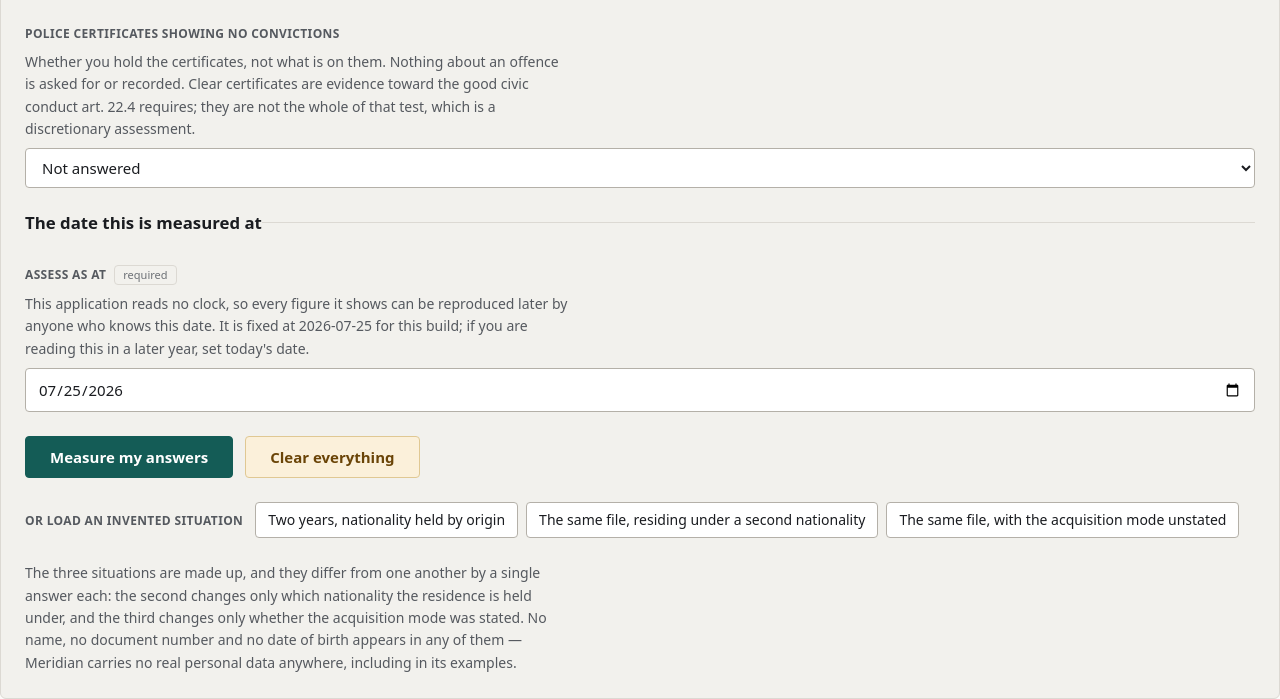
Test: the three cases, on screen › explains that refusal by the nationality the residence is held under, and marks it as practice
(page scrolled)
Click the button "The same file, residing under a second nationality": click(702, 520) [526,502,878,538]
(page scrolled)
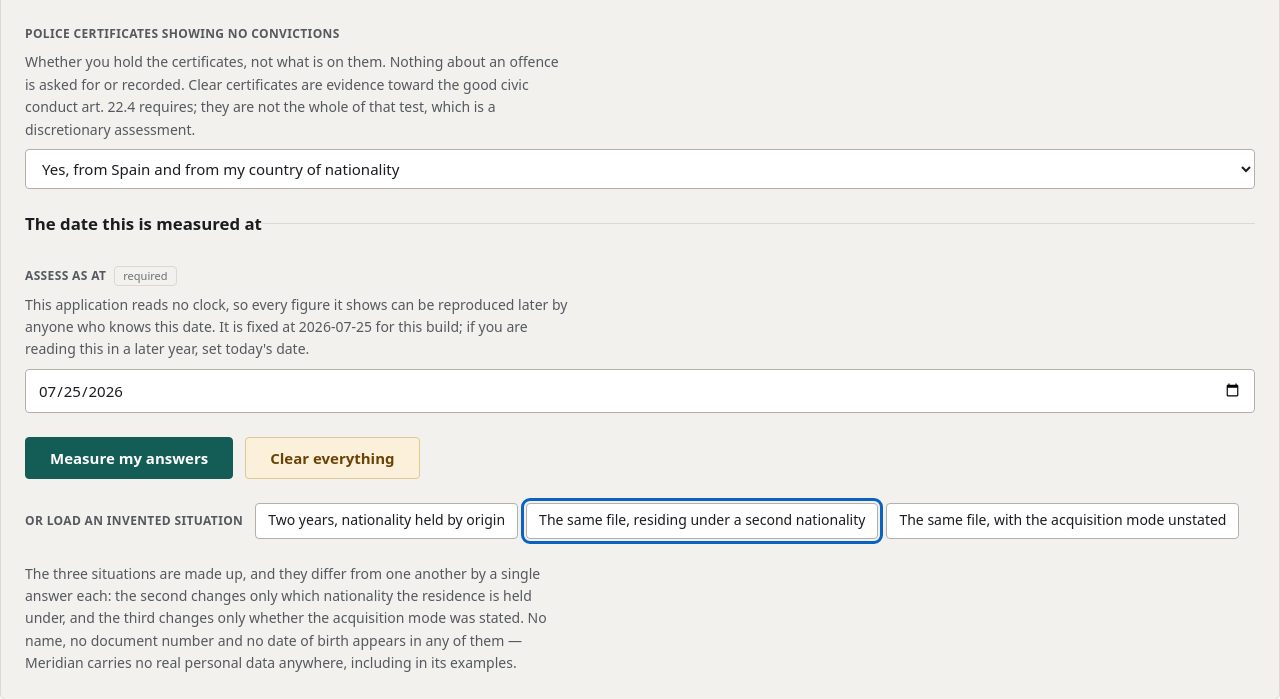
Click the button "Measure my answers": click(129, 458) [25,437,233,479]
(page scrolled)
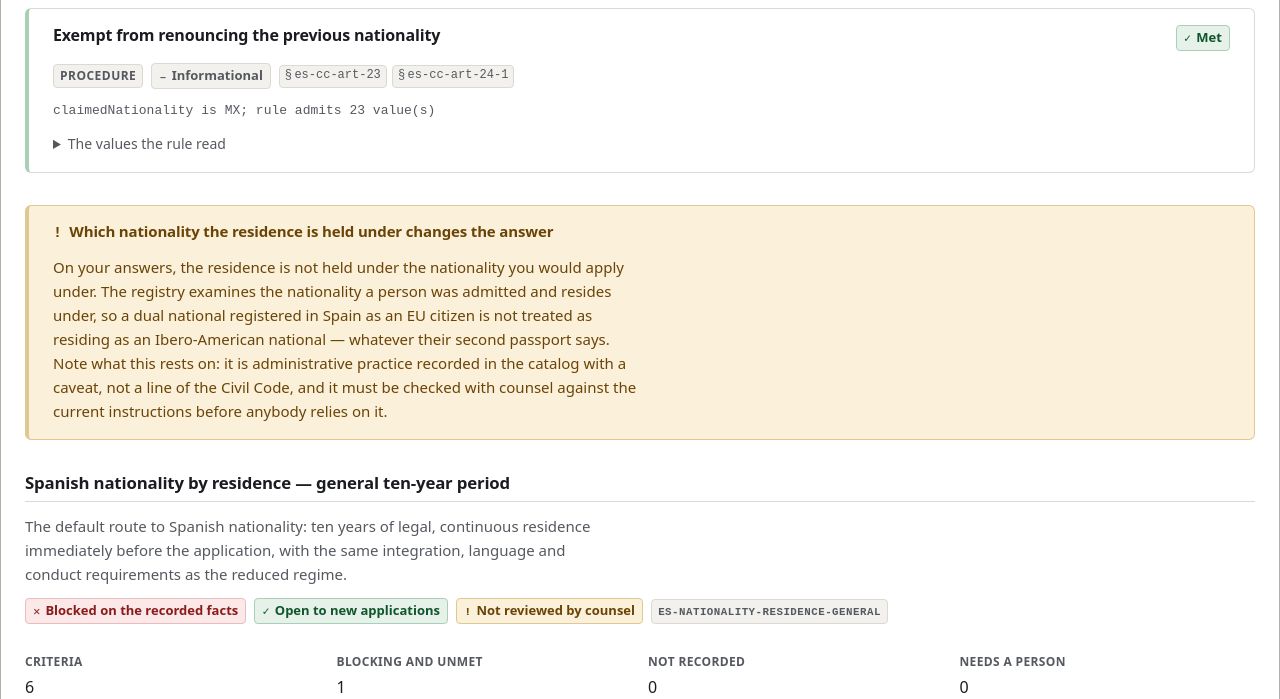
expect the heading "Which nationality the residence is held under changes the answer" is shown: met, box [53,220,553,242]
expect the text "administrative practice recorded in the catalog" is shown: met, box [53,257,636,421]
